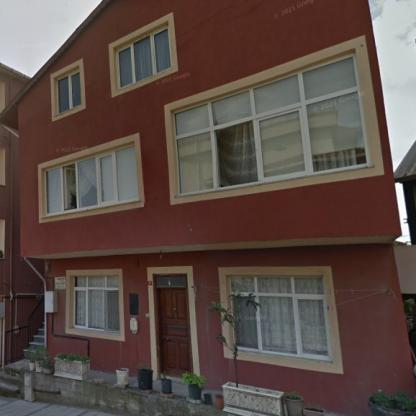door: (153, 272, 193, 380)
window: (174, 53, 372, 196), (227, 275, 332, 364), (45, 145, 137, 215), (118, 26, 171, 87), (73, 275, 119, 333), (56, 68, 82, 114)
